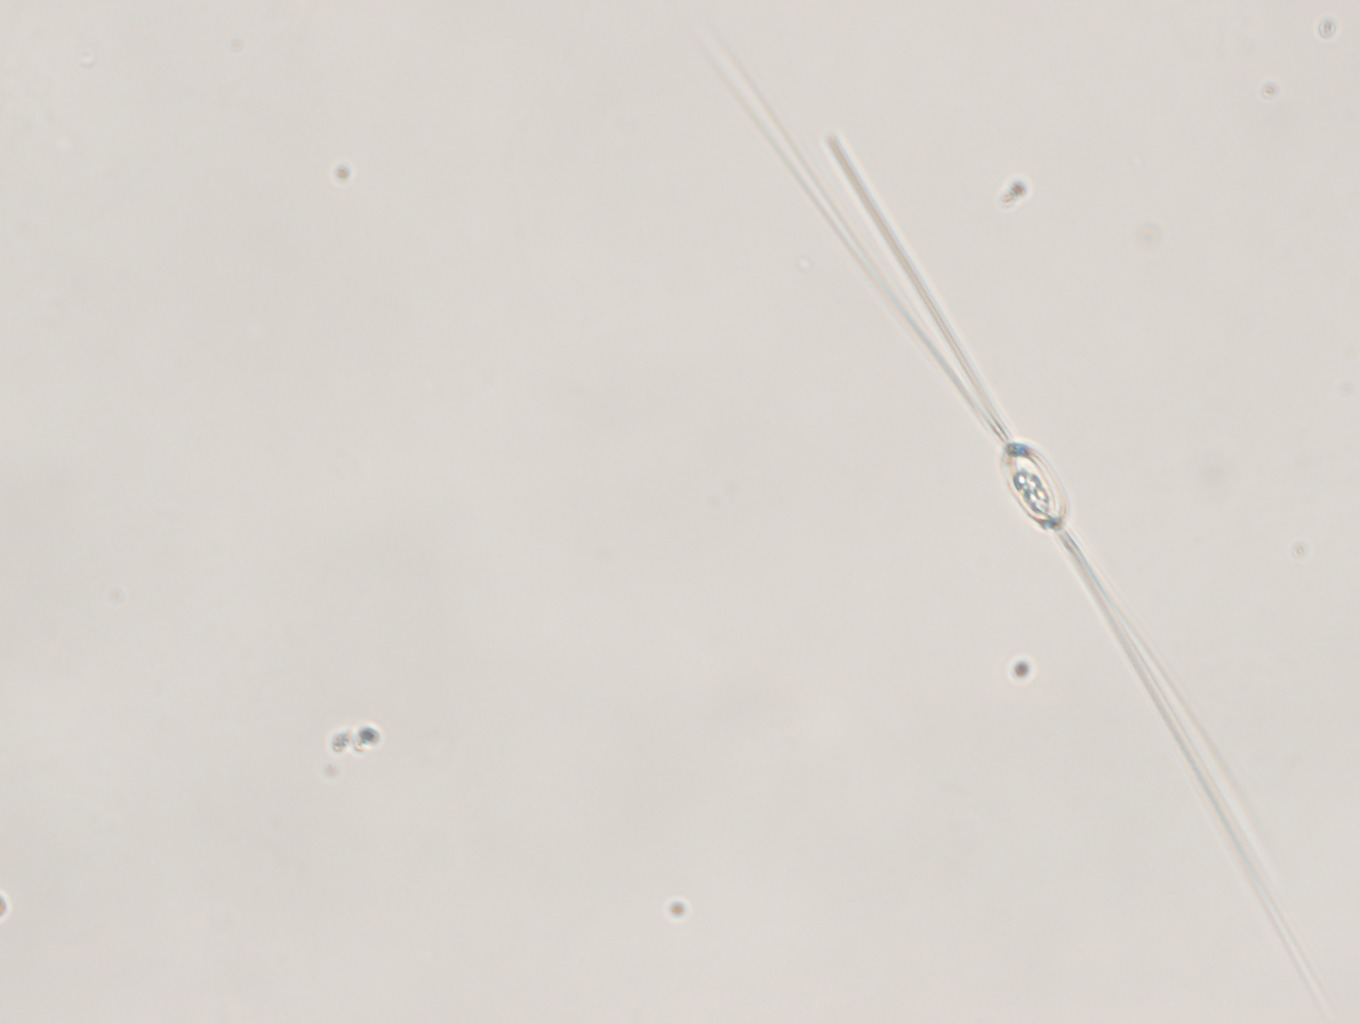chaetoceros: (695, 20, 1345, 1024)
